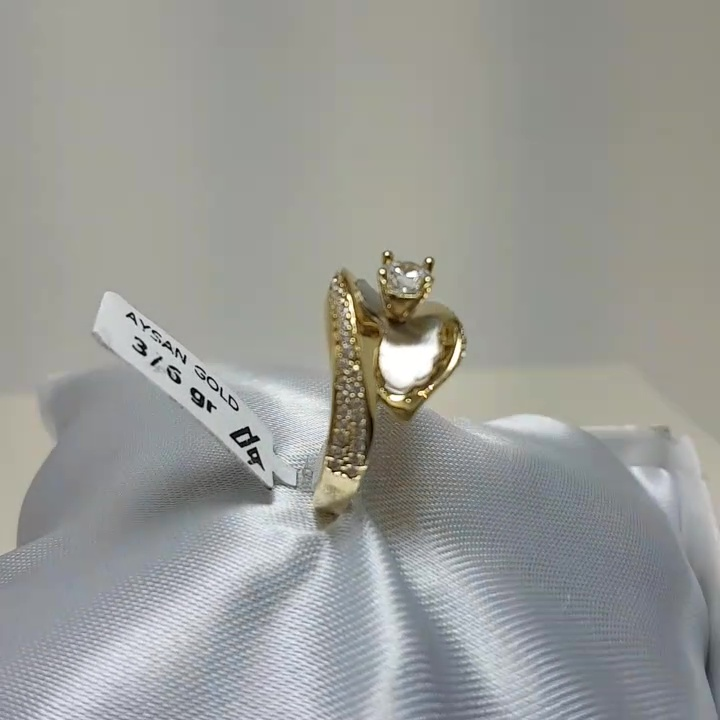Ring 6: (277, 234, 475, 528)
